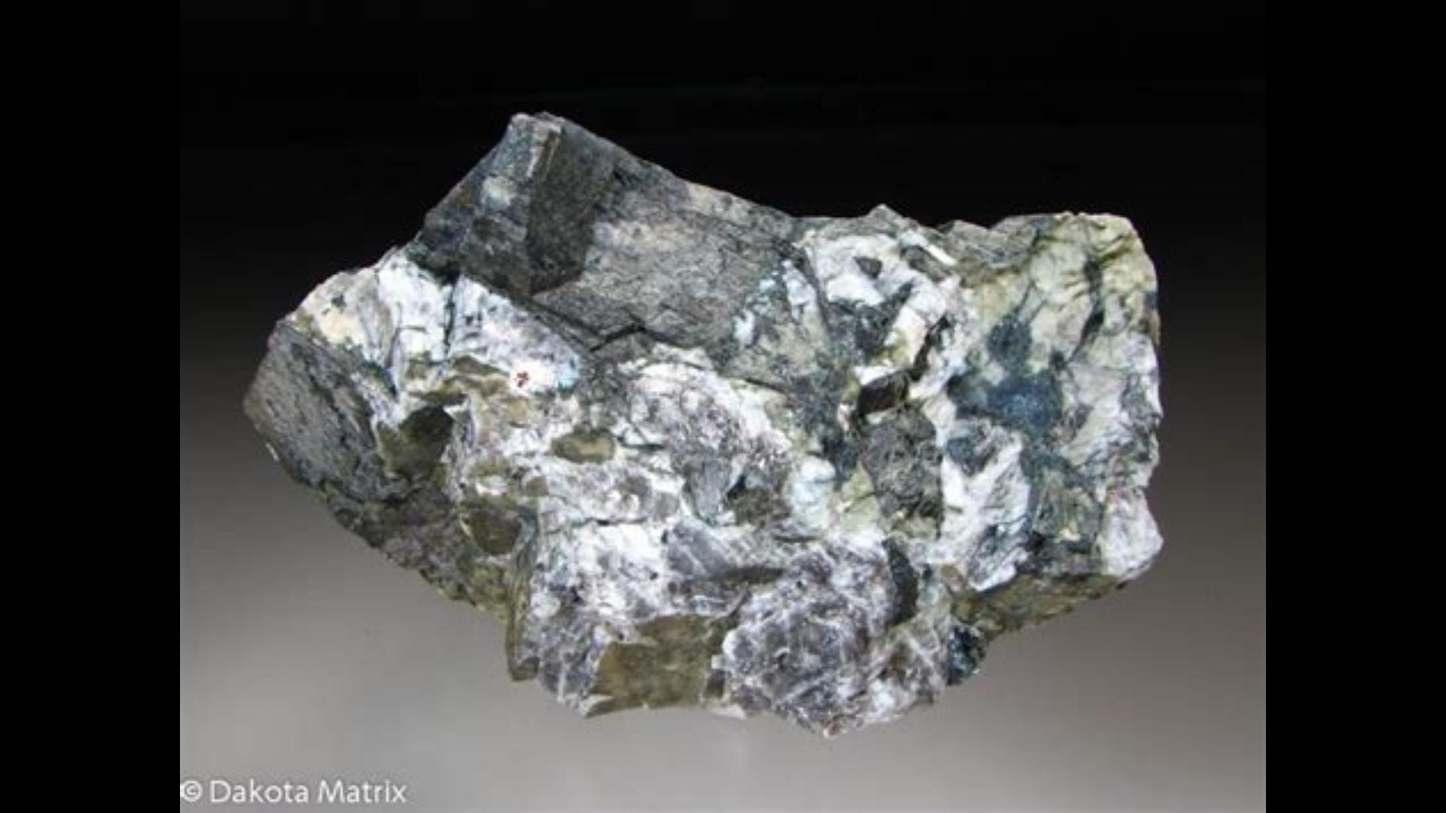rock: (246, 115, 1158, 717)
